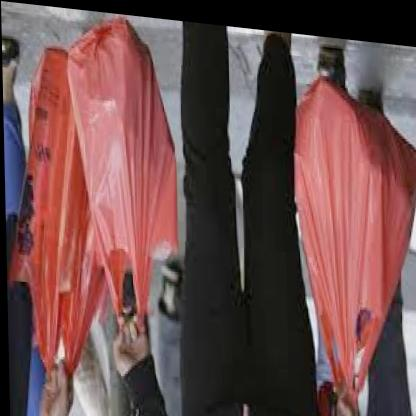Plastic: (54, 6, 192, 336), (294, 50, 416, 416), (11, 33, 102, 404)
